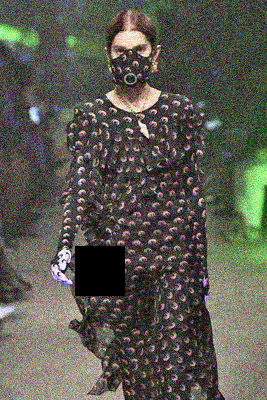with_mask: (110, 40, 155, 87)
